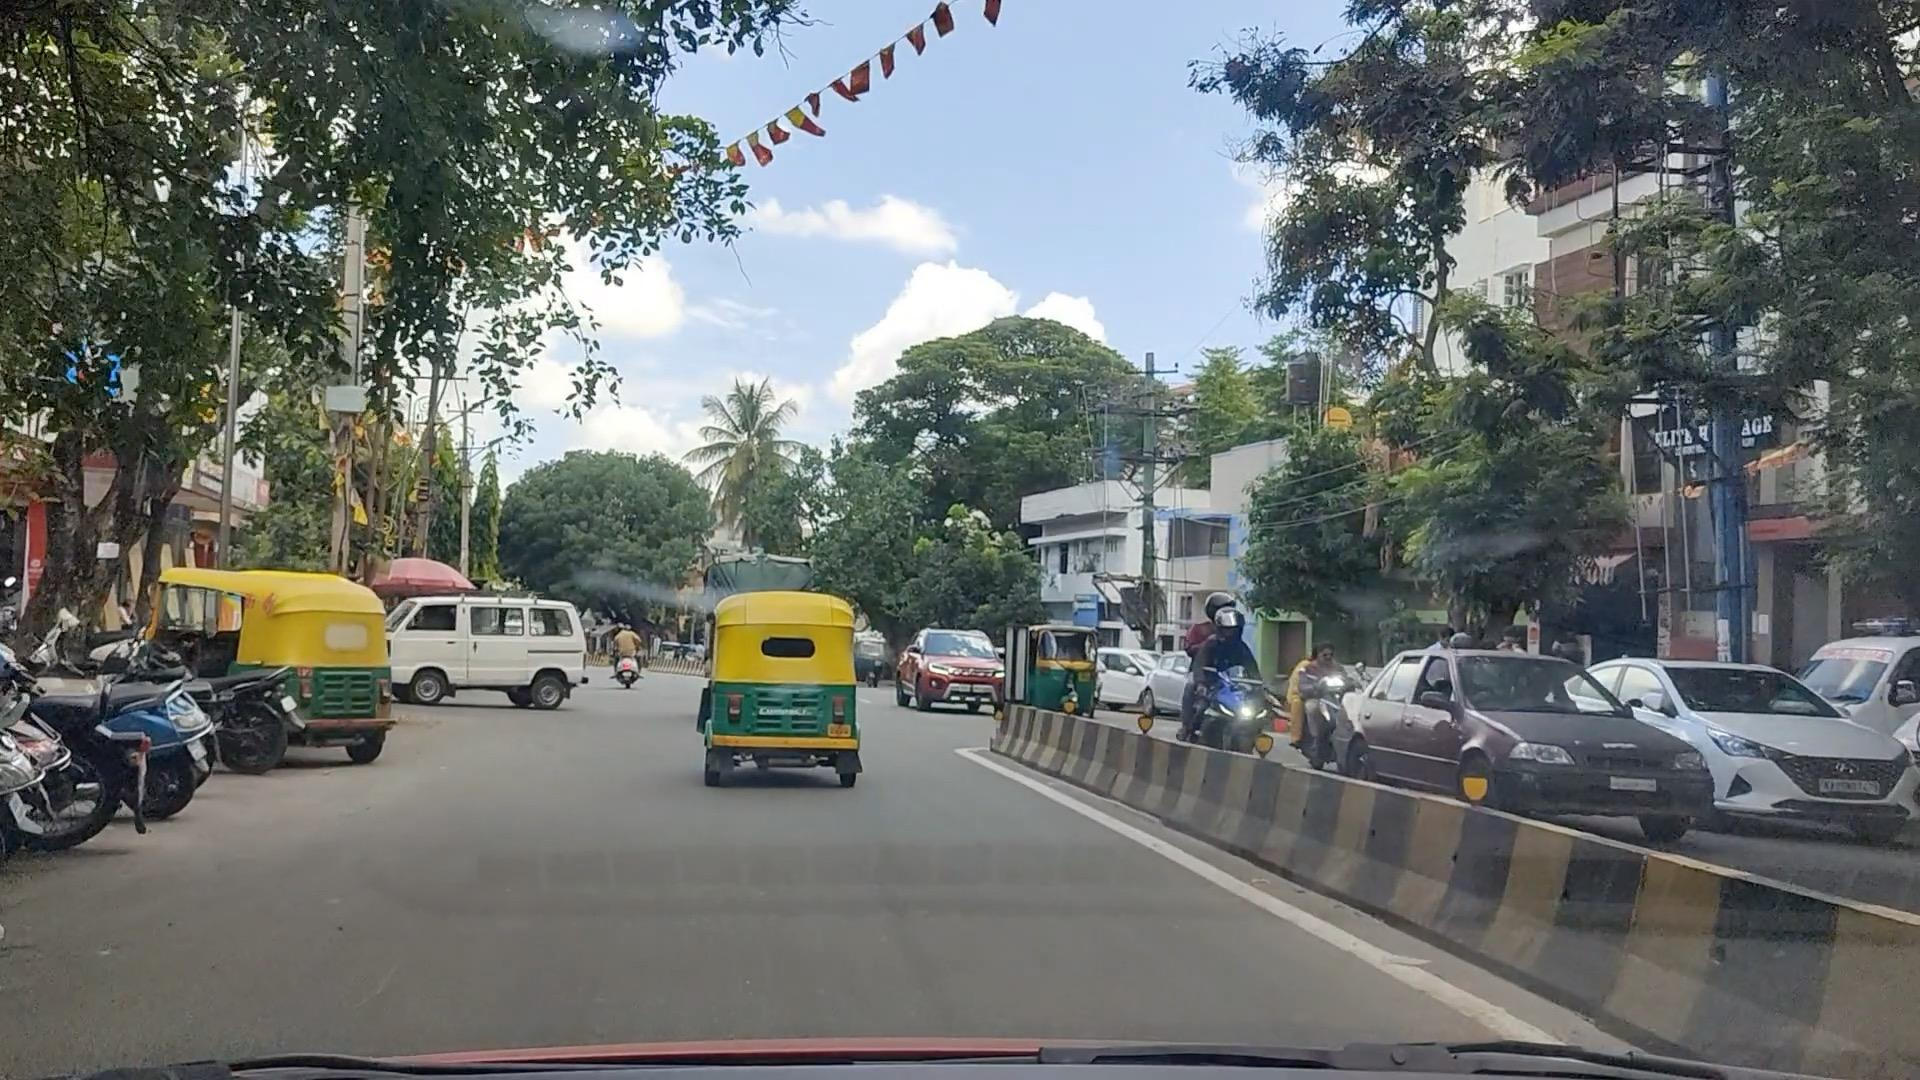LMV: (166, 574, 389, 770), (380, 600, 604, 723), (707, 596, 855, 773)
